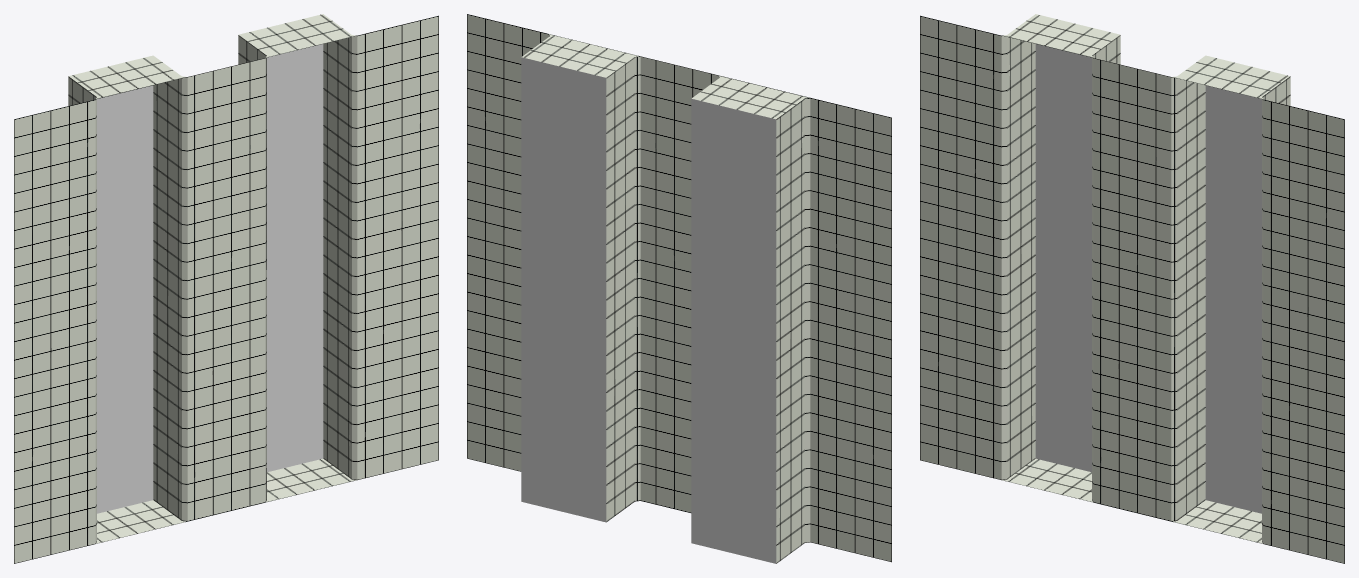
Rendered from Wall_light02.fbx.
The picture shows the model from 3 angles, left to right: view 1: azimuth 30°, elevation 25°; view 2: azimuth 150°, elevation 25°; view 3: azimuth 330°, elevation 25°; orthographic projection.
Parts seen in each view (by area): view 1: Wall_light02; view 2: Wall_light02; view 3: Wall_light02.
Part boxes in pixels (bbox=[...]): Wall_light02: bbox=[14, 14, 438, 563]; Wall_light02: bbox=[467, 14, 891, 563]; Wall_light02: bbox=[920, 14, 1344, 563].
Size of the model in its own units: 400 by 400 by 50.
